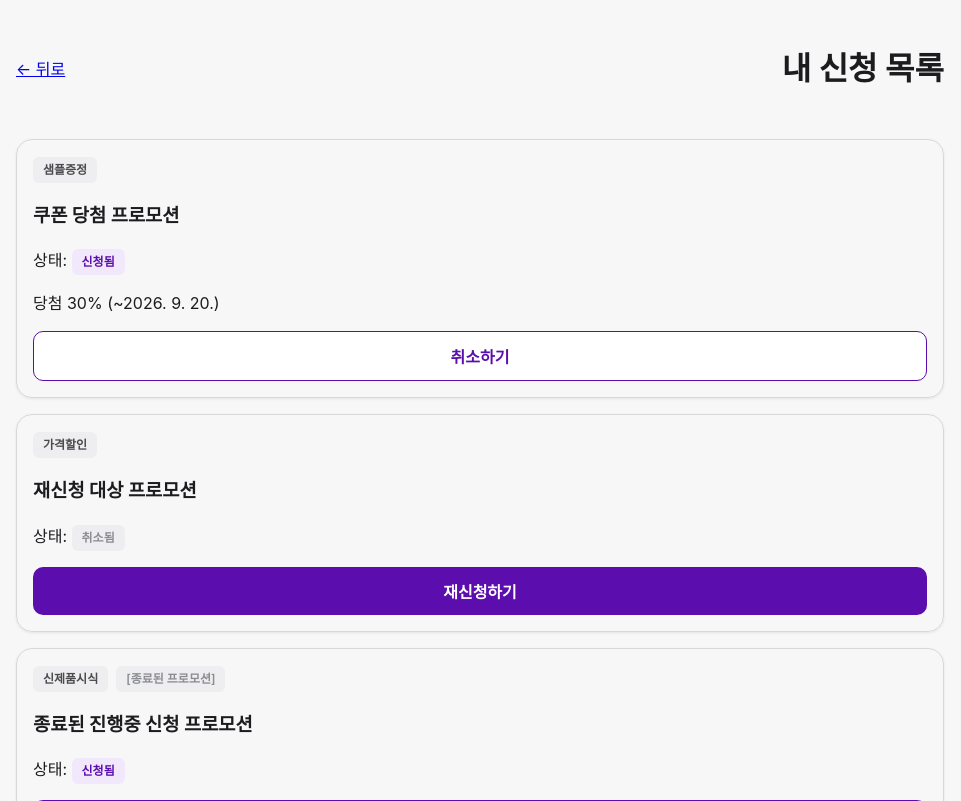
reapplying to a canceled (still open) application flips it back to applied without adding a new card
Check: the text "재신청 대상 프로모션" is shown, box left=33, top=479, right=197, bottom=502
Click the button "재신청하기" at (480, 591), box left=33, top=567, right=927, bottom=615
(page scrolled)
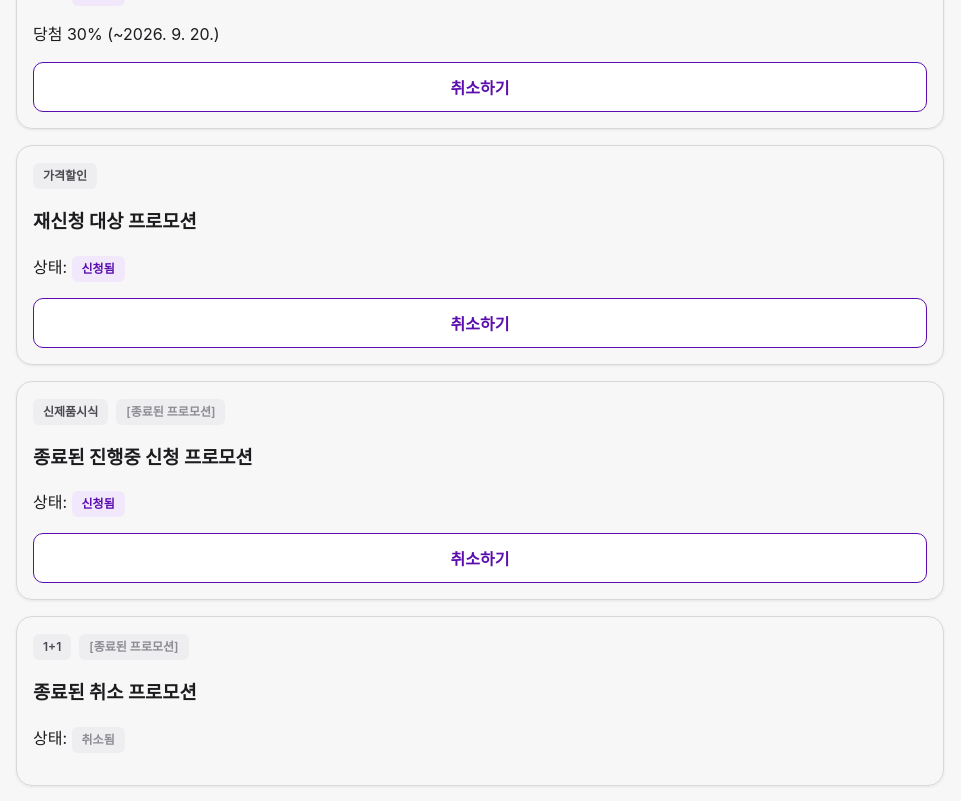
Check: the number of headings "재신청 대상 프로모션" is 1, box left=33, top=210, right=197, bottom=233
Check: the text "신청됨" below "재신청 대상 프로모션" is shown, box left=82, top=261, right=115, bottom=276
